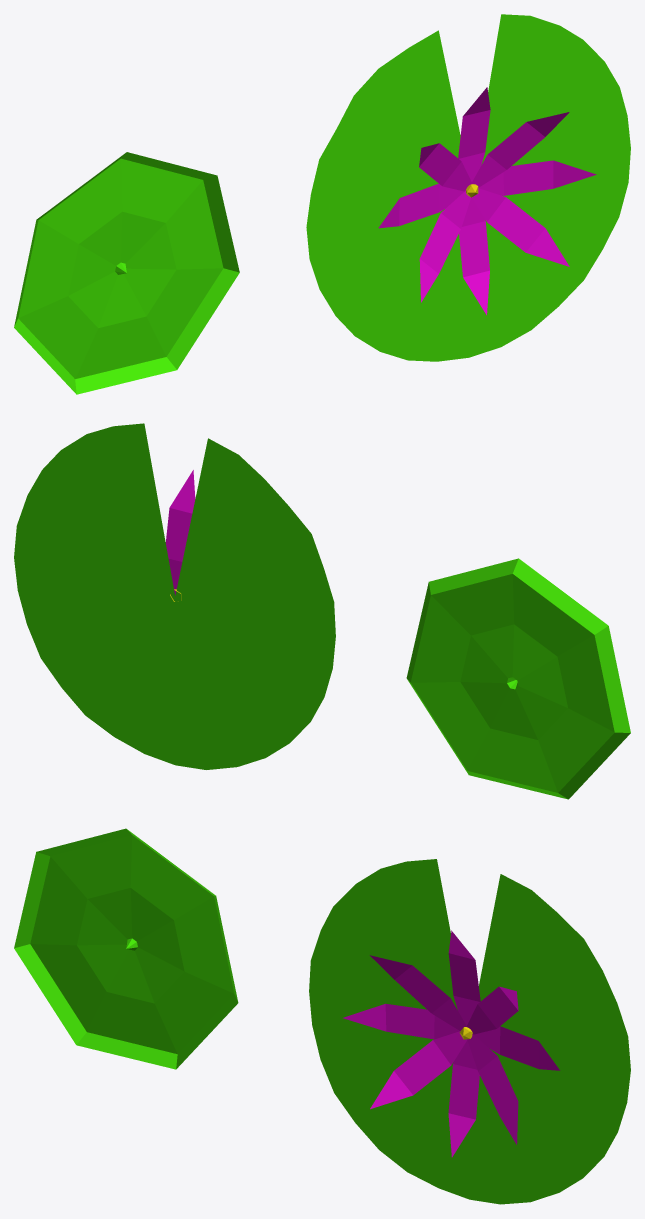
Rendered from water flower.fbx.
3 renders of one model, top to bottom at view 1: azimuth 30°, elevation 25°; view 2: azimuth 150°, elevation 25°; view 3: azimuth 330°, elevation 25°, orthographic.
Parts seen in each view (by area): view 1: Plane.003, Circle; view 2: Plane.003, Circle; view 3: Plane.003, Circle.
Boxes of the visible parts, x1=… form: Plane.003: x1=306, y1=14, x2=630, y2=361; Circle: x1=14, y1=152, x2=239, y2=394; Plane.003: x1=14, y1=423, x2=335, y2=769; Circle: x1=406, y1=558, x2=630, y2=799; Plane.003: x1=309, y1=859, x2=630, y2=1204; Circle: x1=14, y1=828, x2=238, y2=1069.
Size of the model in its own units: 1129 by 586 by 98.38.
